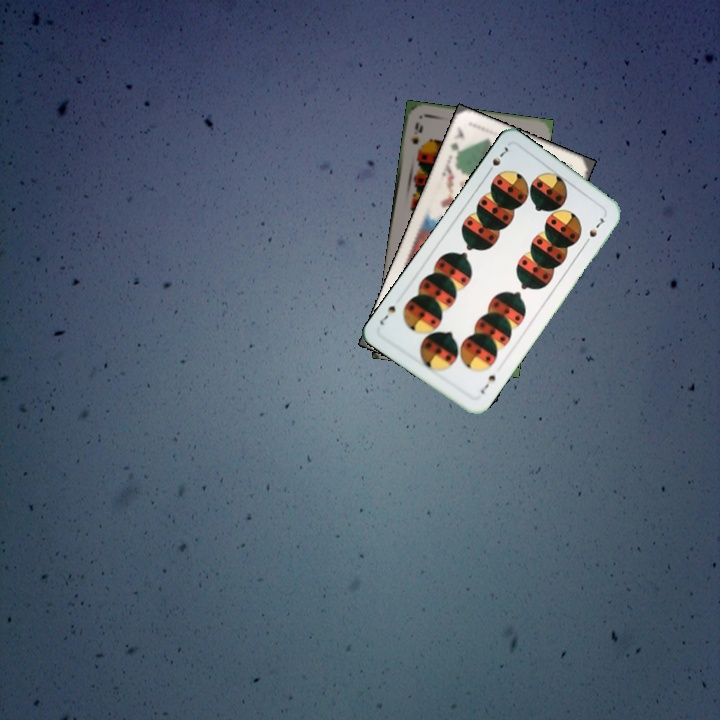GK: (446, 124, 467, 163)
S7: (483, 143, 511, 177), (476, 371, 498, 397)
S9: (406, 118, 425, 147)
